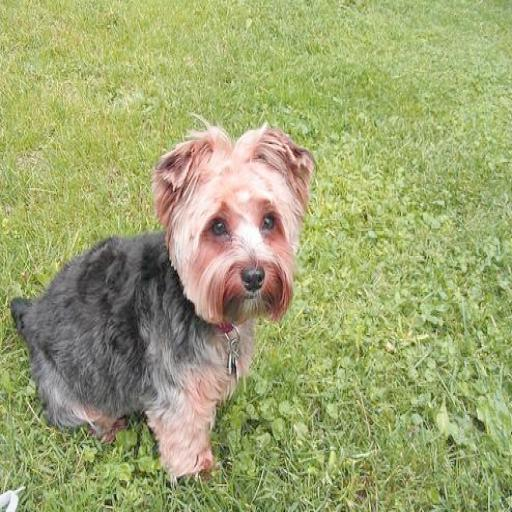dog_face: (158, 128, 313, 326)
